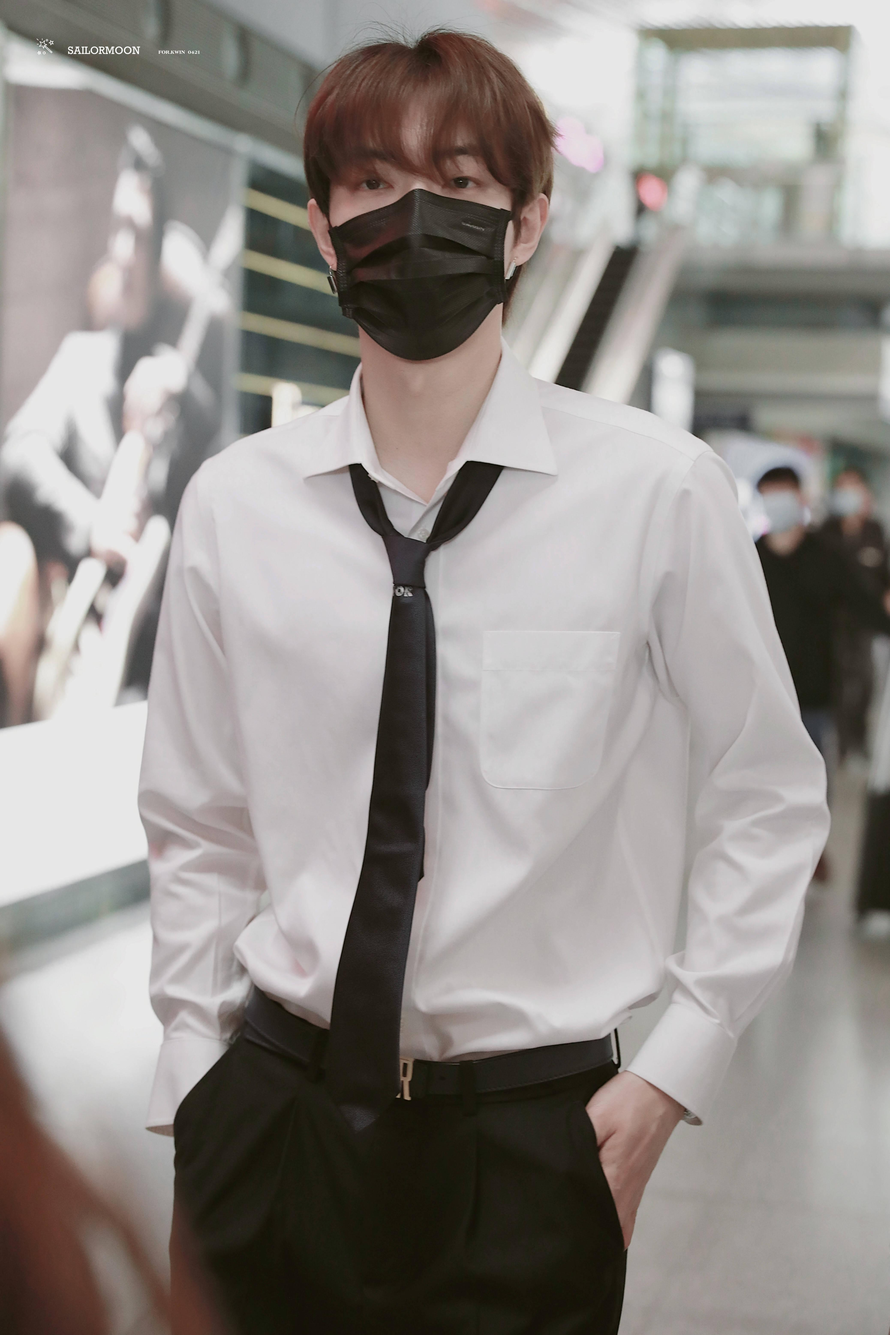OK: (332, 140, 509, 362), (759, 477, 804, 527), (833, 478, 864, 513)
